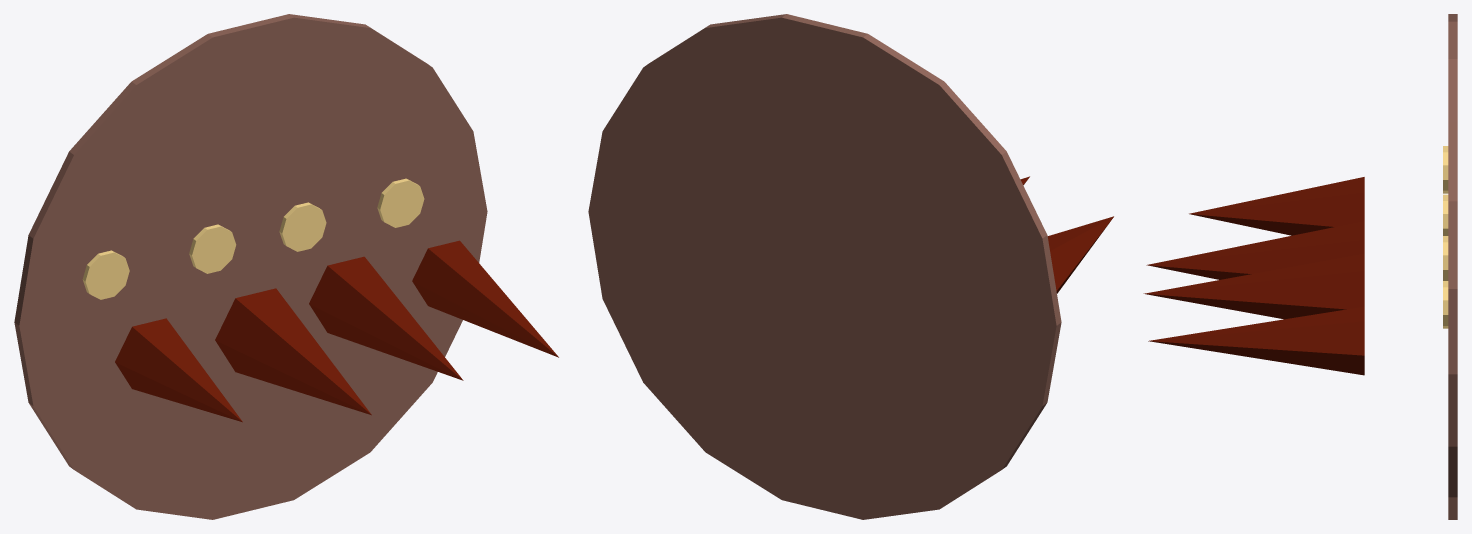
Rendered from 02_local_prop_cluster.glb.
The picture shows the model from 3 angles, left to right: view 1: azimuth 30°, elevation 25°; view 2: azimuth 150°, elevation 25°; view 3: azimuth 270°, elevation 25°; orthographic projection. The views are drawn at different scales.
Parts seen in each view (by area): view 1: scatter_base, basalt_shard_1, basalt_shard_2, basalt_shard_3, basalt_shard_0, lava_glow_1, lava_glow_0, lava_glow_2, lava_glow_3; view 2: scatter_base, basalt_shard_0; view 3: basalt_shard_2, basalt_shard_3, basalt_shard_1, basalt_shard_0, scatter_base.
Part boxes in pixels (left/top/right/bottom): scatter_base: left=14, top=14, right=487, bottom=519; basalt_shard_1: left=215, top=288, right=371, bottom=415; basalt_shard_2: left=309, top=256, right=463, bottom=380; basalt_shard_3: left=412, top=240, right=558, bottom=357; basalt_shard_0: left=115, top=318, right=242, bottom=422; lava_glow_1: left=189, top=224, right=236, bottom=273; lava_glow_0: left=82, top=250, right=129, bottom=299; lava_glow_2: left=279, top=202, right=326, bottom=251; lava_glow_3: left=377, top=178, right=424, bottom=227; scatter_base: left=588, top=14, right=1061, bottom=519; basalt_shard_0: left=1047, top=216, right=1113, bottom=293; basalt_shard_2: left=1143, top=253, right=1364, bottom=319; basalt_shard_3: left=1148, top=306, right=1364, bottom=375; basalt_shard_1: left=1146, top=221, right=1364, bottom=279; basalt_shard_0: left=1189, top=177, right=1364, bottom=235; scatter_base: left=1448, top=14, right=1457, bottom=519.
Bounding box in the file's own units: 1.9 × 1.87 × 1.18.
